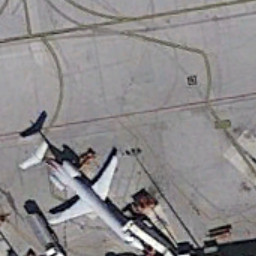Airplane: (15, 128, 146, 250)
